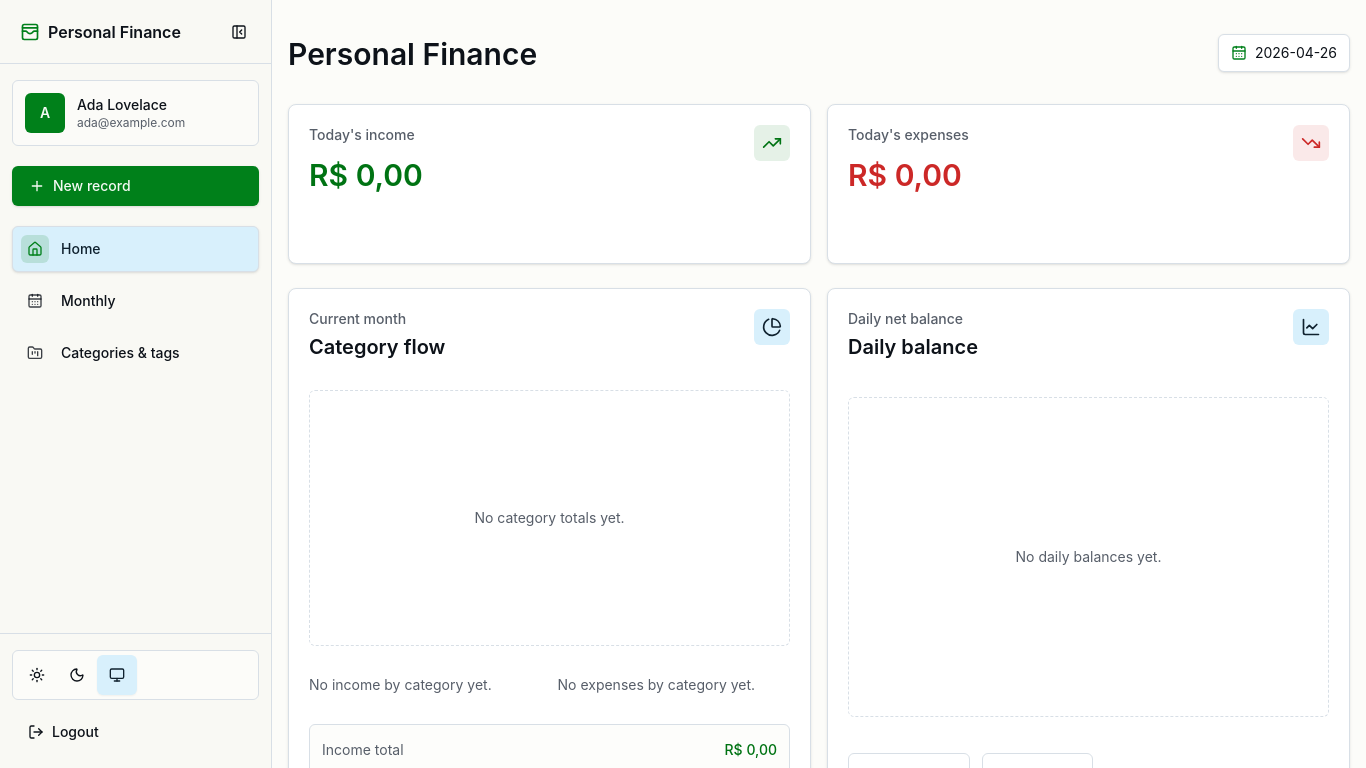
Test: opens the dedicated categories and recurring tags route from the sidebar
Click the link "Categories & tags". click: [103, 352]
box: [27,344,180,361]
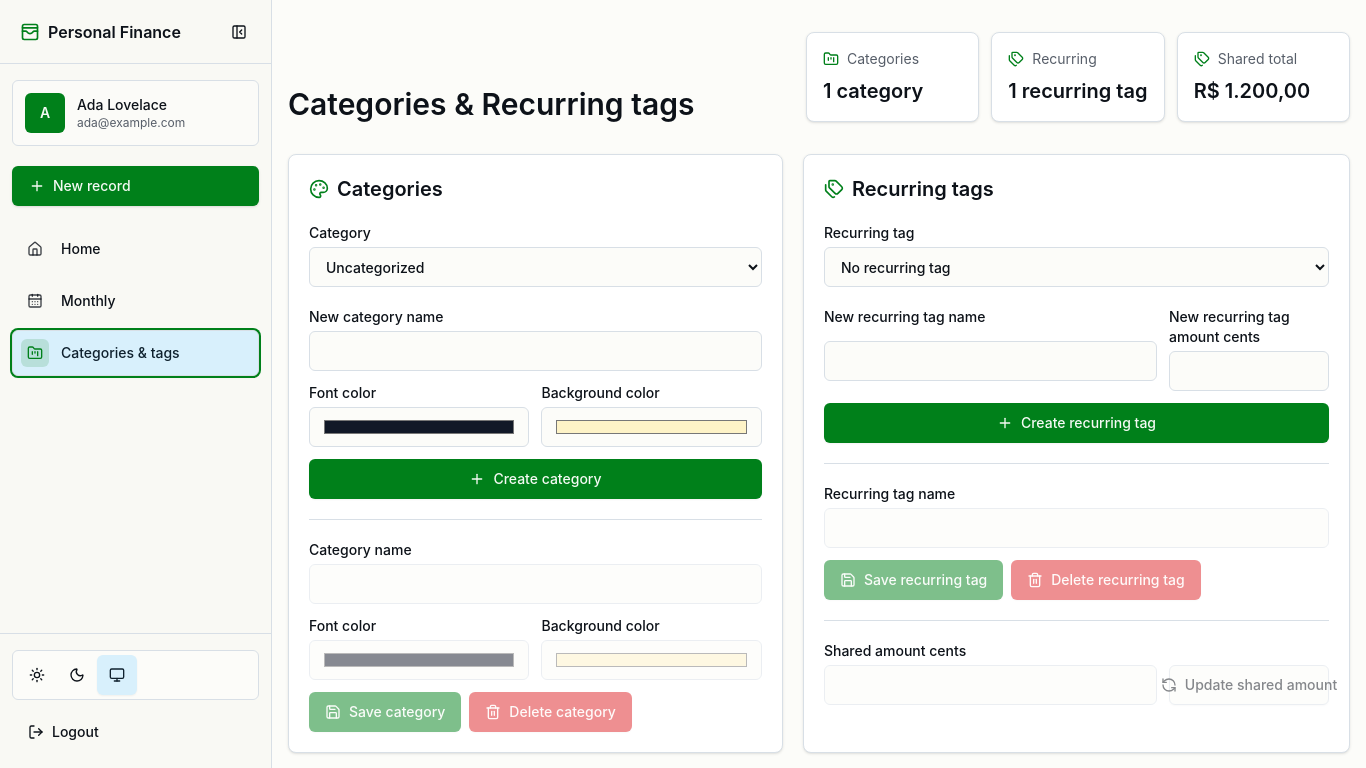
Check: the heading "Categories & Recurring tags" is shown, box [288,86,694,122]
Check: the text "1 category" is shown, box [823,79,923,103]
Check: the text "1 recurring tag" is shown, box [1008,77,1148,105]
